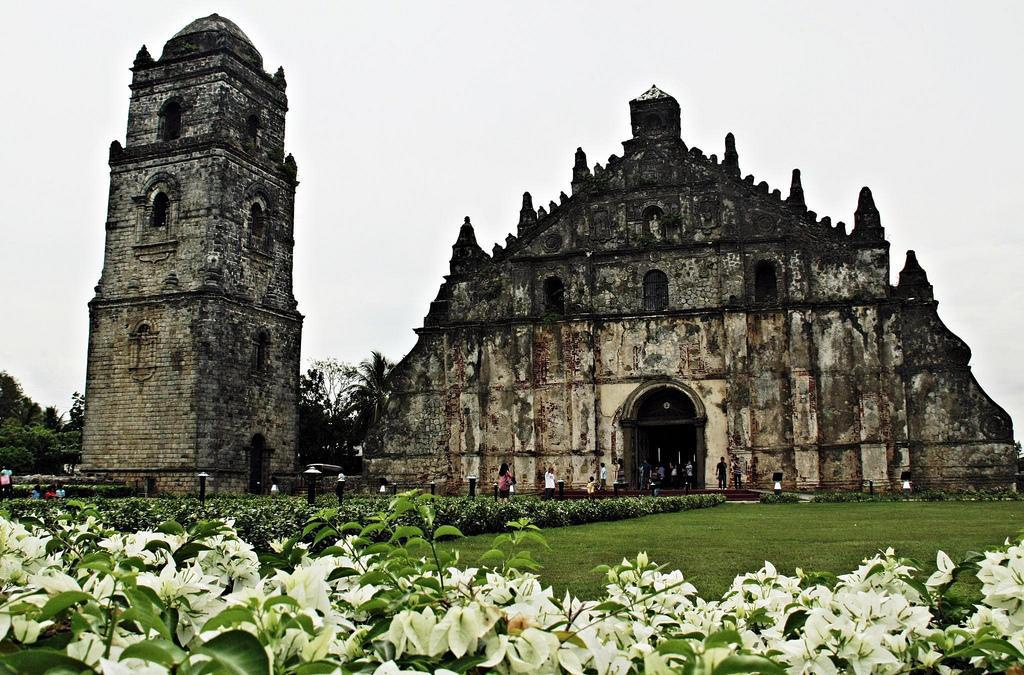paoay_church_paoay_ilocos_norte: (68, 3, 1023, 509)
